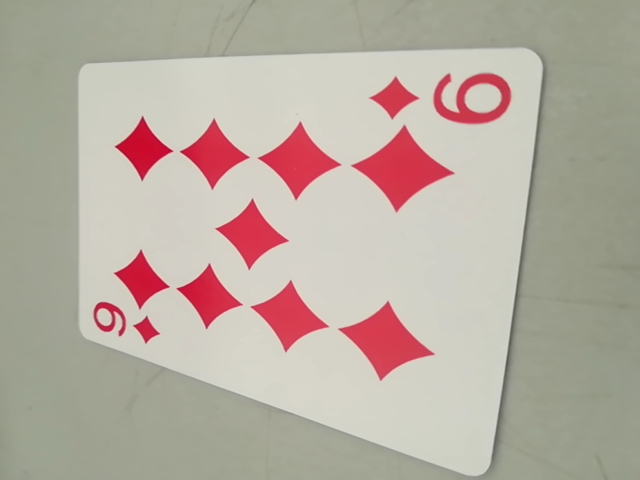fk 9: (368, 64, 514, 134), (84, 298, 168, 352)
